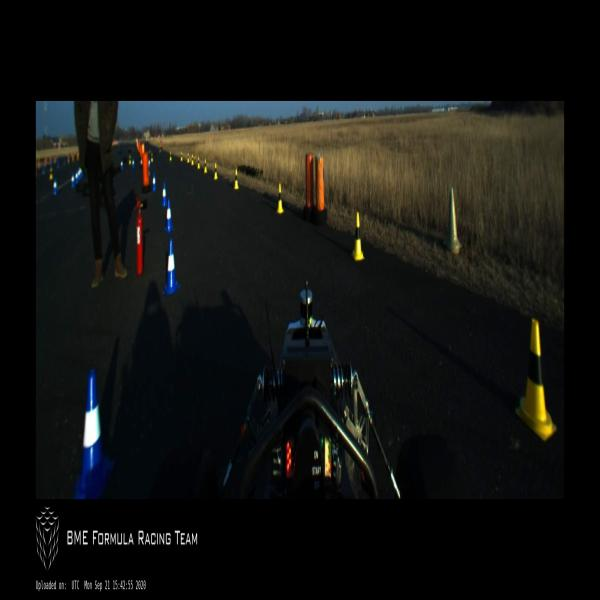blue_cone: (72, 368, 114, 498), (162, 238, 180, 294), (164, 199, 173, 233), (161, 182, 167, 206), (152, 172, 156, 190), (53, 179, 57, 194), (75, 169, 78, 183), (77, 167, 80, 179), (72, 172, 74, 187), (148, 157, 150, 168), (132, 158, 134, 168), (121, 160, 123, 170), (80, 167, 81, 177)
yellow_cone: (516, 320, 557, 442), (351, 212, 364, 260), (276, 183, 284, 213), (234, 168, 238, 189), (214, 163, 218, 179), (204, 159, 208, 173), (197, 156, 200, 169), (191, 154, 194, 165), (50, 168, 52, 179), (187, 153, 189, 163), (180, 151, 182, 161), (170, 151, 172, 161), (129, 155, 131, 164), (151, 153, 153, 161)
